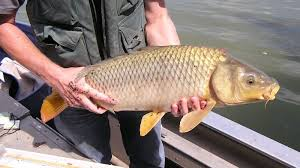carp: (40, 44, 282, 140)
